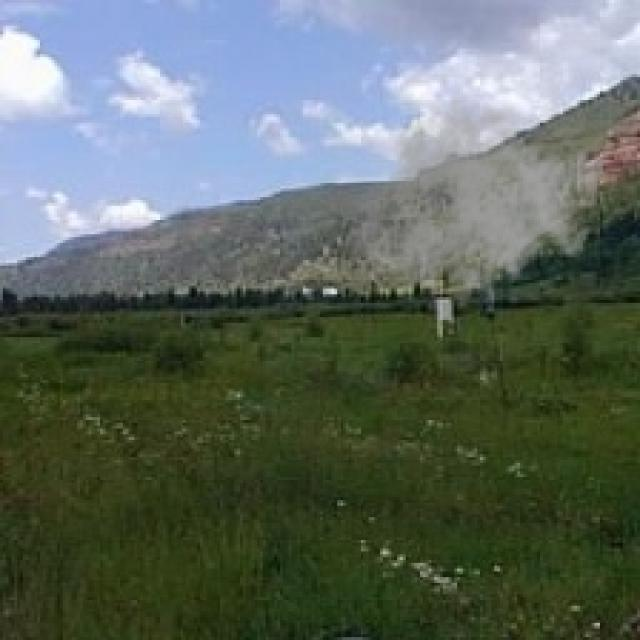smoke: (346, 94, 606, 317)
